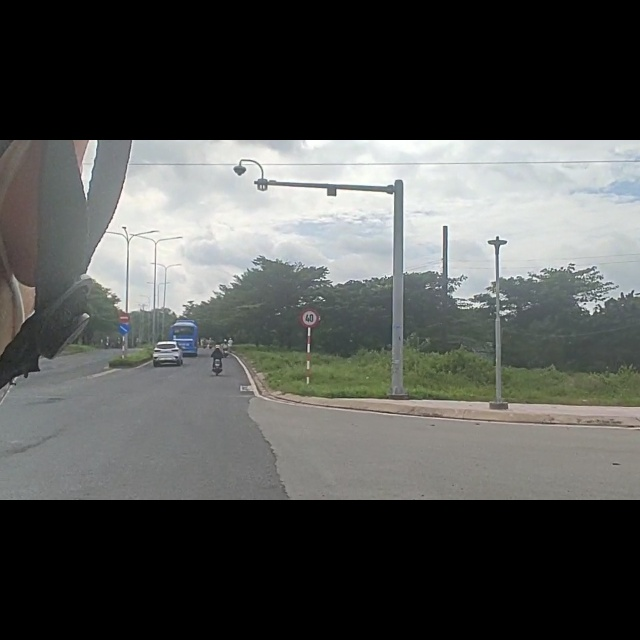bien_cam: (300, 297, 321, 334), (119, 324, 129, 348), (119, 305, 130, 326)
